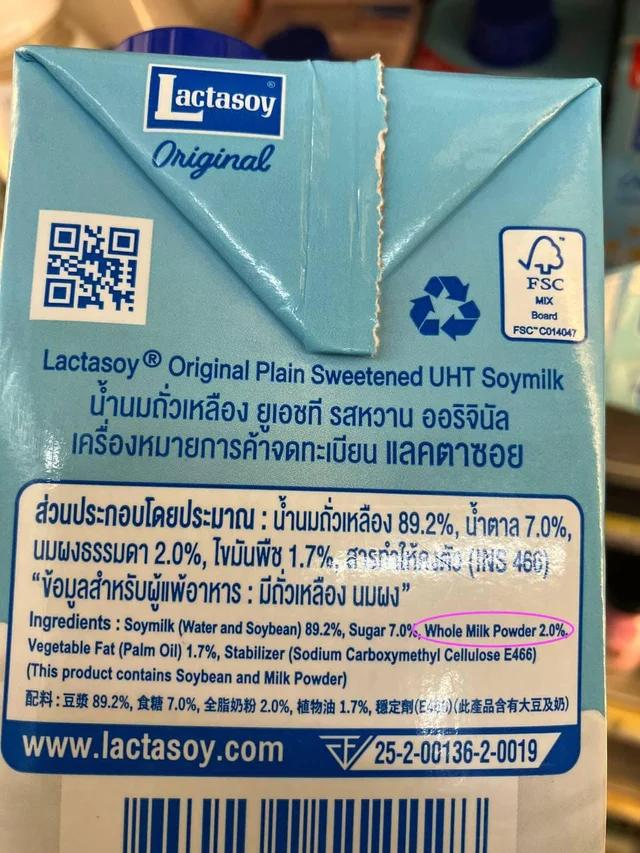cardboard: (0, 24, 610, 853)
